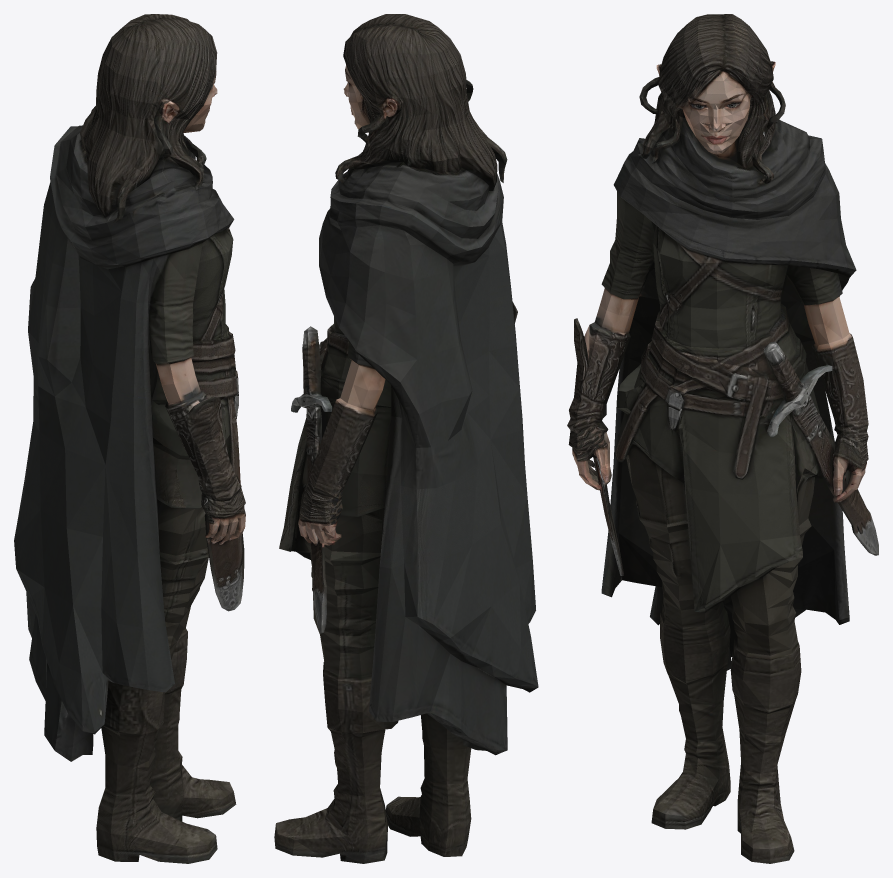
File: wren_2k.obj
The picture shows the model from 3 angles, left to right: view 1: azimuth 30°, elevation 25°; view 2: azimuth 150°, elevation 25°; view 3: azimuth 270°, elevation 25°; orthographic projection. The views are drawn at different scales.
Parts seen in each view (by area): view 1: tripo_node_031597d8-d815-4611-8977-88e95e54f38b; view 2: tripo_node_031597d8-d815-4611-8977-88e95e54f38b; view 3: tripo_node_031597d8-d815-4611-8977-88e95e54f38b.
Part boxes in pixels (x1=…): tripo_node_031597d8-d815-4611-8977-88e95e54f38b: x1=14, y1=14, x2=245, y2=863; tripo_node_031597d8-d815-4611-8977-88e95e54f38b: x1=274, y1=14, x2=538, y2=863; tripo_node_031597d8-d815-4611-8977-88e95e54f38b: x1=567, y1=14, x2=878, y2=863.
Size of the model in its own units: 0.2676 by 0.998 by 0.3535.
Materials: 1 (1 with a texture image).
